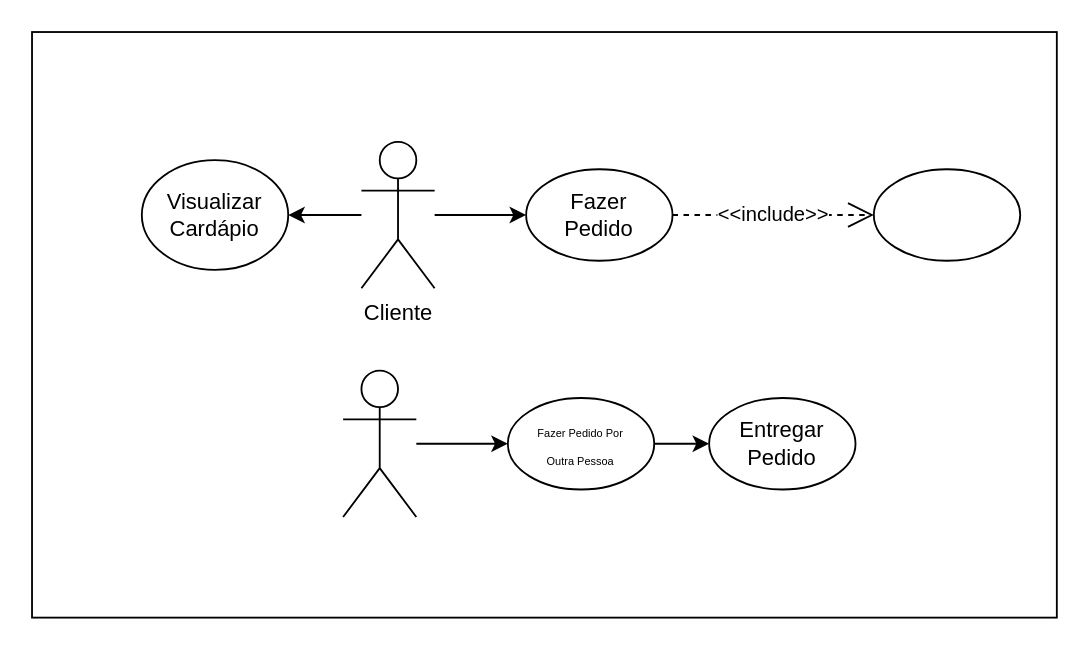
Image size: 1089x650. Some labels were removed from this diagram. Here are the shapes that lost their labels. From the top down, the centre of each, then its label:
At point 946,214: "Pagar Conta".
At point 378,443: "Garçom".
